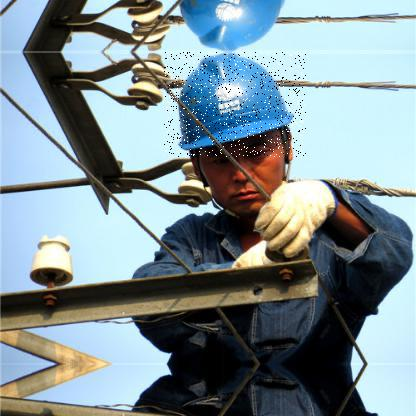safetyhelmet: (164, 52, 307, 158)
